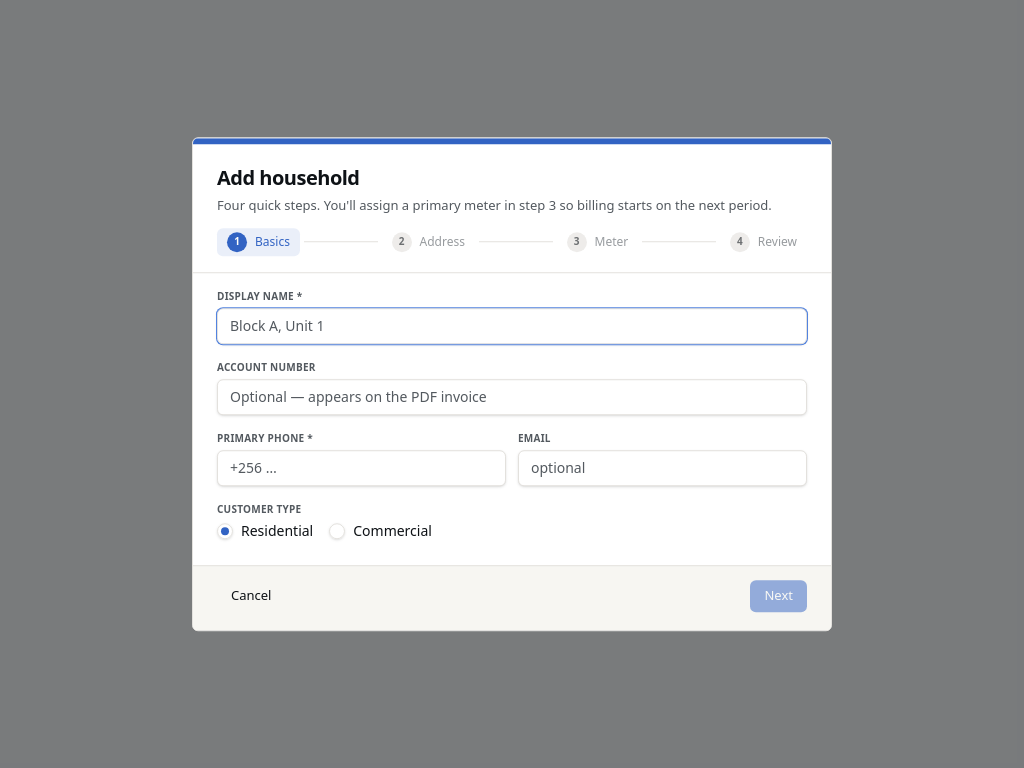
Test: HouseholdWizard › (h) #146 — Step 2 new address fields › renders City, Region/state, Country, Postal code, Geography notes in step 2
Type "Household X" into the field labelled "Display name *" at point(512, 326), box 217,308 -> 807,344
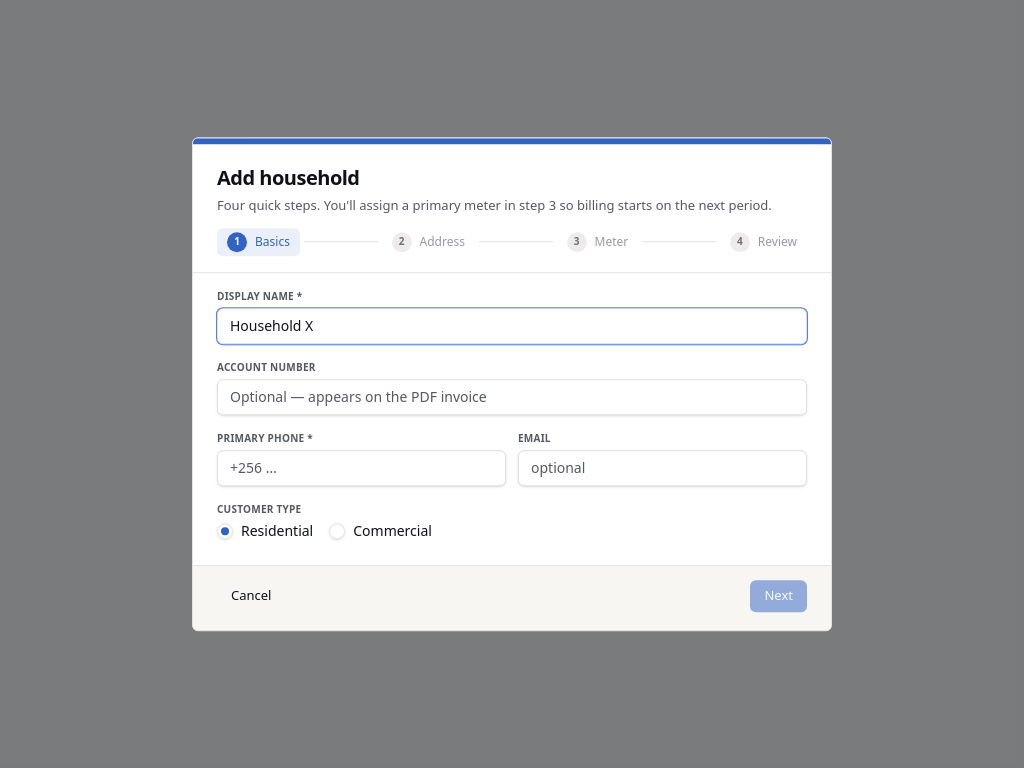
Type "+256 700 000 000" into the field labelled "Primary phone *" at point(362, 468), box 217,450 -> 506,486
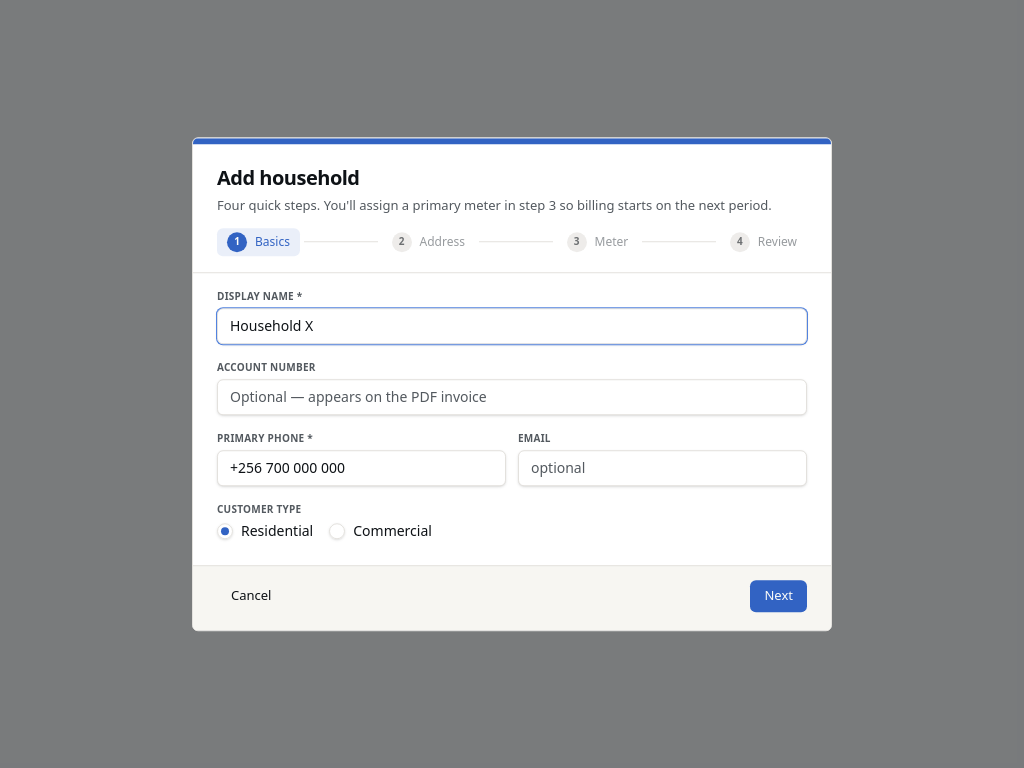
Click the button "Next" at point(779, 596), box 750,580 -> 807,612
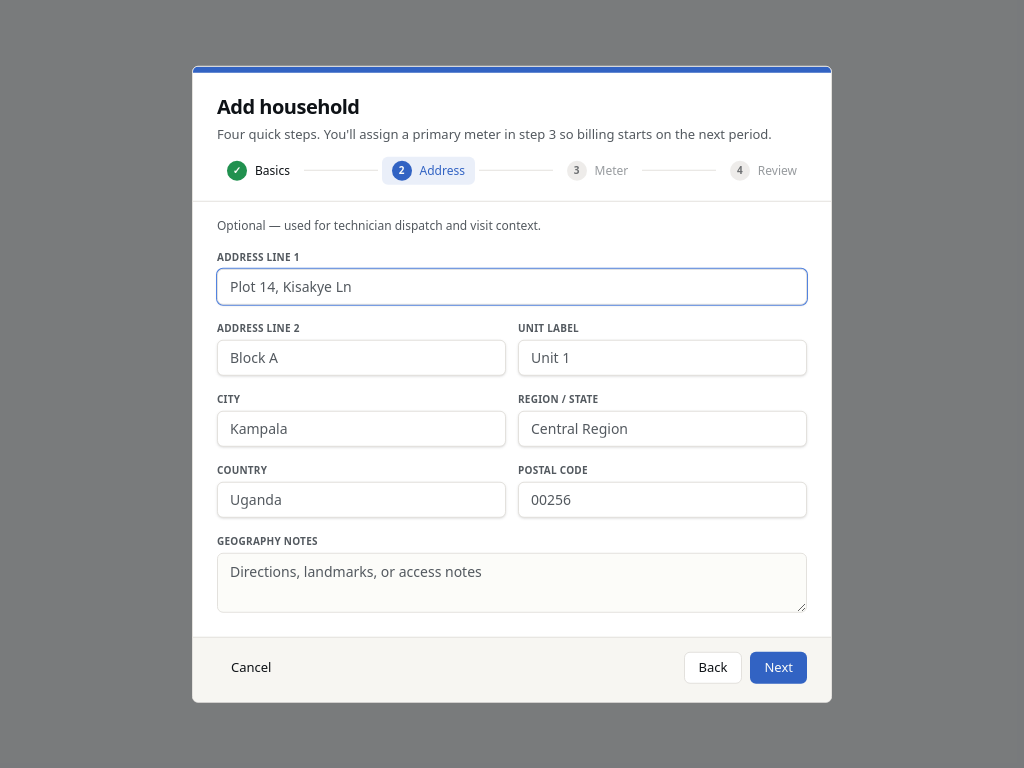
expect the field labelled "Address line 1" is shown: met, box 217,268 -> 807,304
expect the field labelled "City" is shown: met, box 217,410 -> 506,446
expect the field labelled "Region / state" is shown: met, box 518,410 -> 807,446
